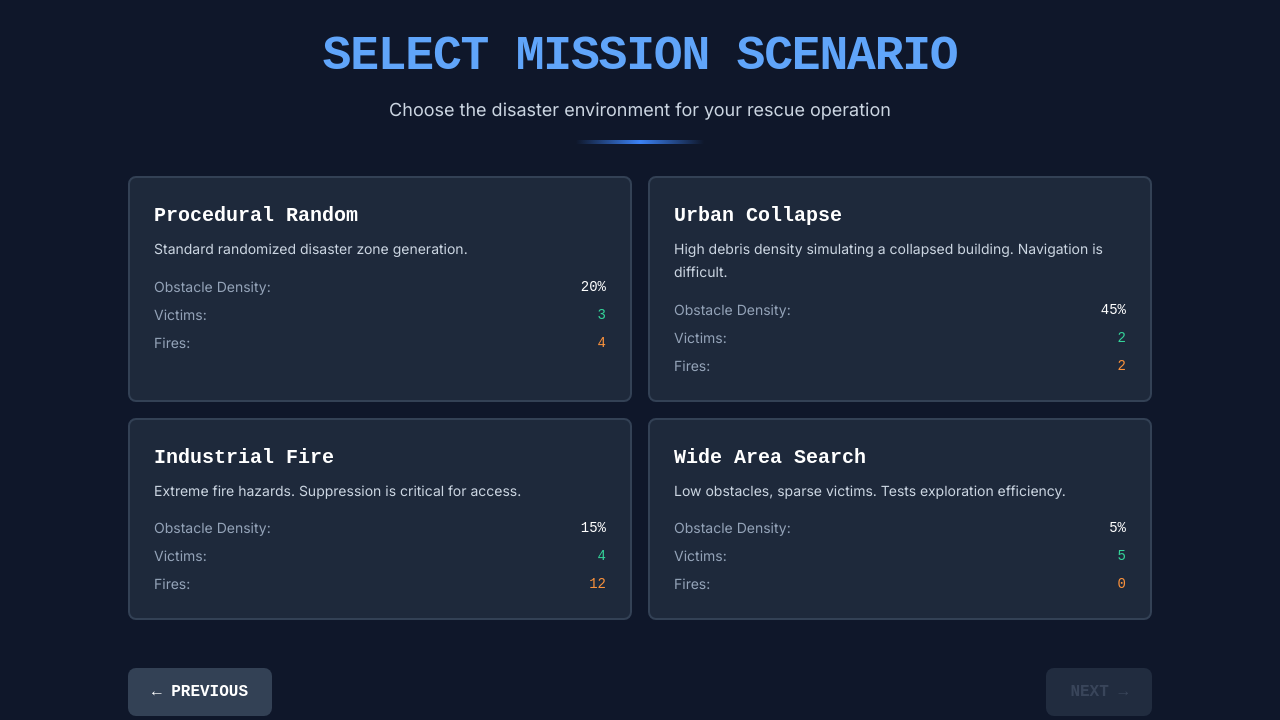
Scenario: ScenarioStep › should hide validation message when a scenario is selected
// Trigger validation message
Step 1. Click the button "NEXT →" → (1099, 692), box [1046,668,1152,716]
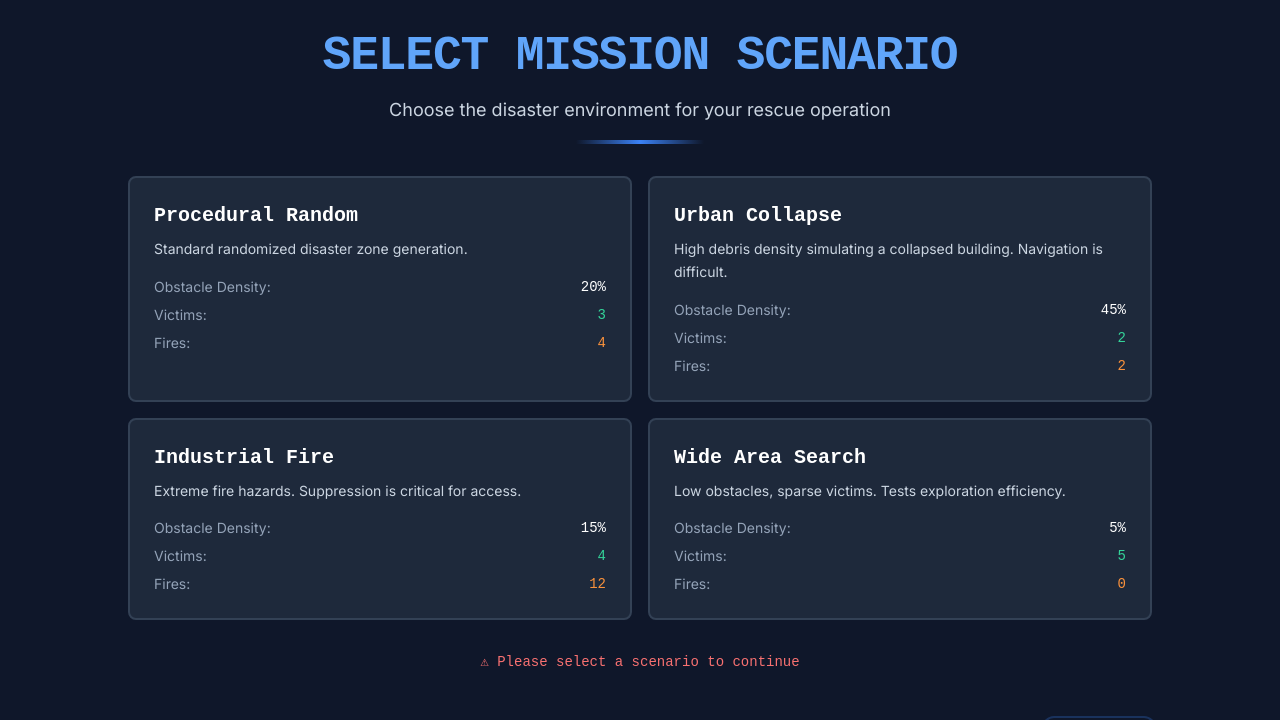
Expected: the text "⚠ Please select a scenario to continue" is shown, [480,654,800,670]
// Select a scenario
Step 2. Click the text "Procedural Random" → (380, 289), box [128,176,632,402]
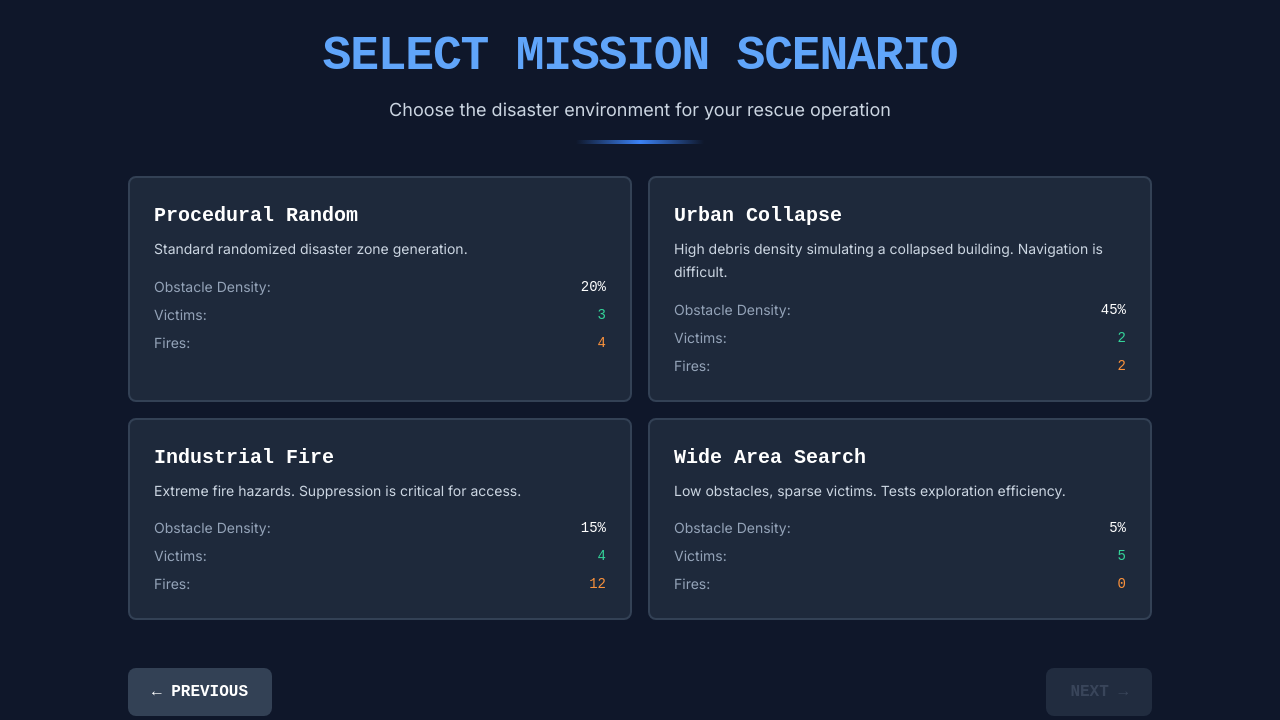
Expected: the text "Please select a scenario to continue" is gone
